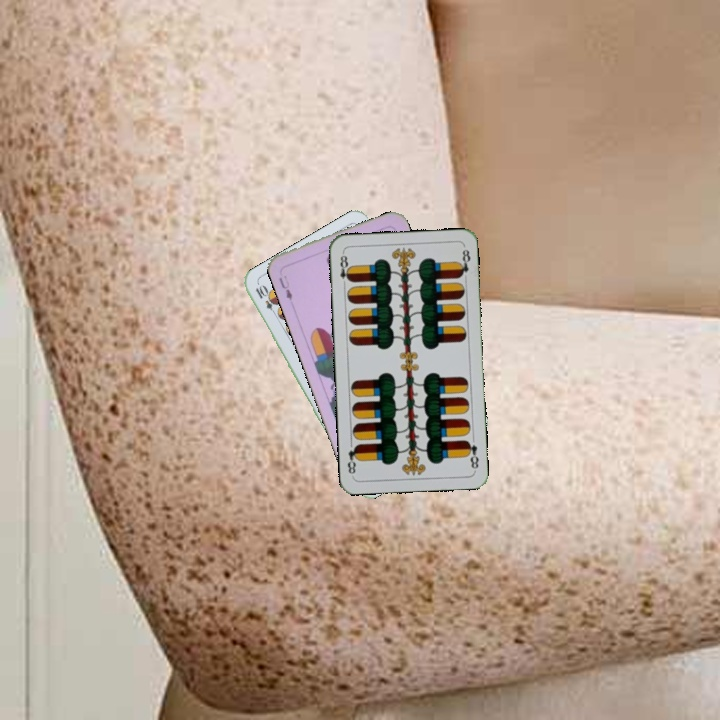E10: (251, 281, 281, 319)
E8: (336, 249, 353, 290), (462, 436, 481, 472)
EU: (275, 271, 295, 303)
